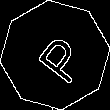P_NW: (24, 25, 86, 85)
